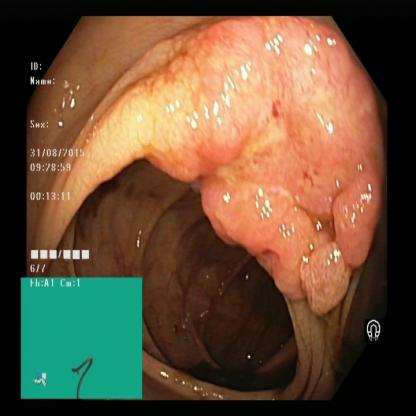Labels: (24, 47, 118, 275), (20, 276, 142, 402)
Polyps: (300, 158, 378, 308), (195, 160, 297, 247)
